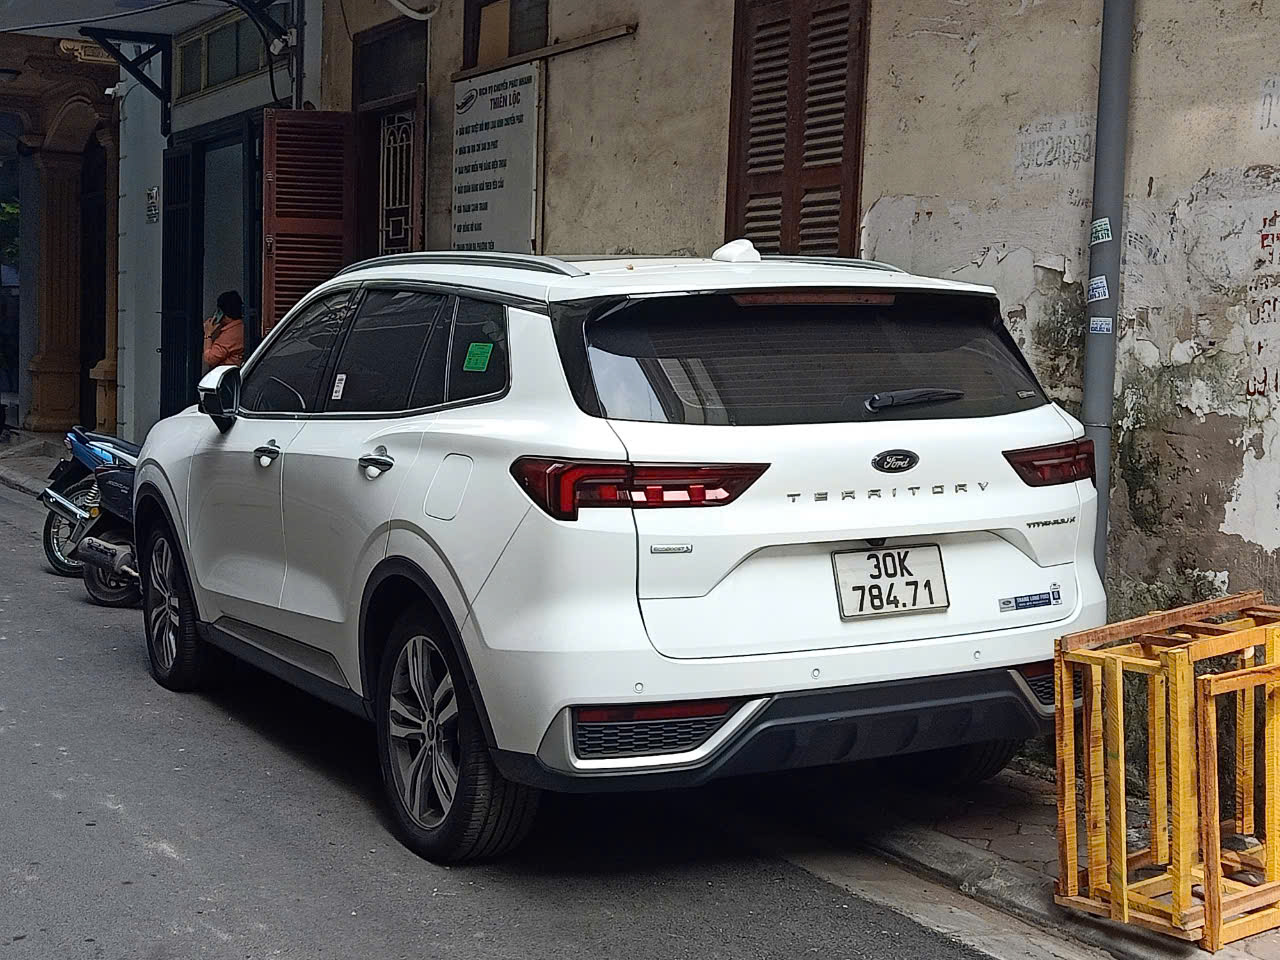bien_so: (833, 544, 949, 619)
